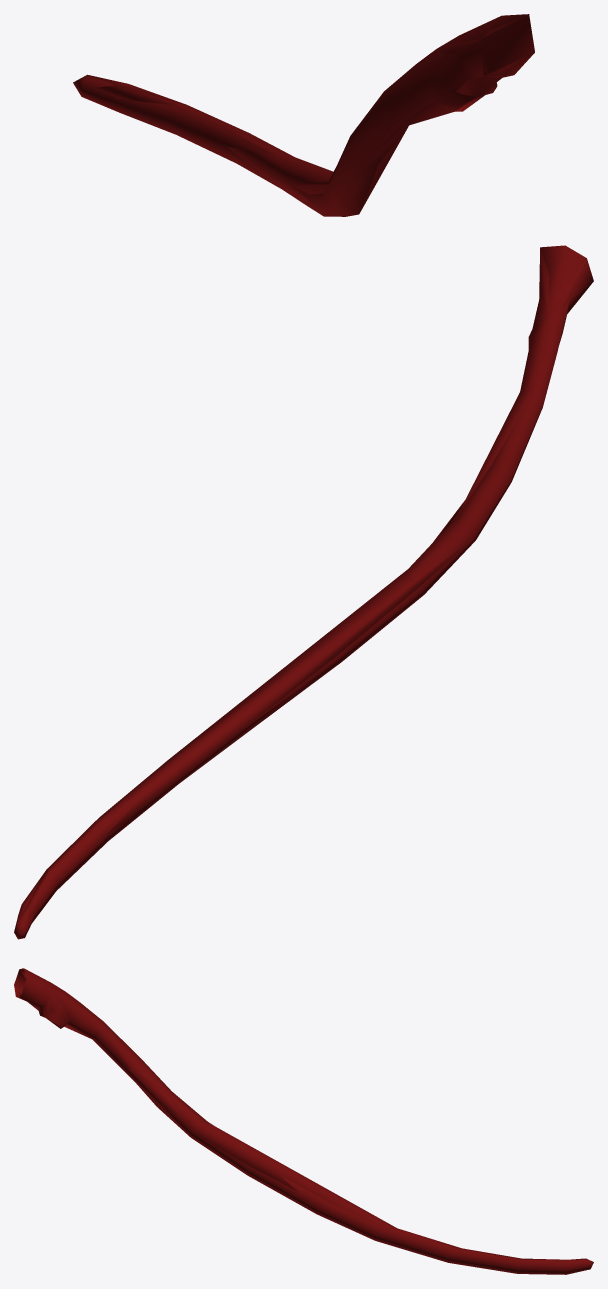
The model's file is R profunda femoris.fbx.
3 renders of one model, top to bottom at view 1: azimuth 30°, elevation 25°; view 2: azimuth 150°, elevation 25°; view 3: azimuth 270°, elevation 25°, orthographic. The views are drawn at different scales.
Parts seen in each view (by area): view 1: R profunda femoris, R profunda femoris low; view 2: R profunda femoris, R profunda femoris low; view 3: R profunda femoris, R profunda femoris low.
Boxes of the visible parts, <box> form: R profunda femoris: <box>73,14,534,216</box>; R profunda femoris low: <box>90,15,534,216</box>; R profunda femoris: <box>14,245,593,939</box>; R profunda femoris low: <box>18,247,591,921</box>; R profunda femoris: <box>14,968,593,1274</box>; R profunda femoris low: <box>14,969,585,1271</box>.
Bounding box in the file's own units: 3.32 × 7.21 × 14.25.
